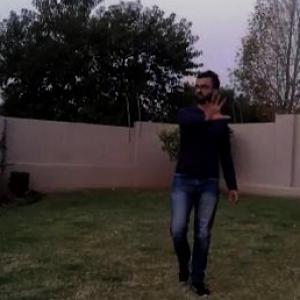follow_hand: (198, 86, 234, 124)
